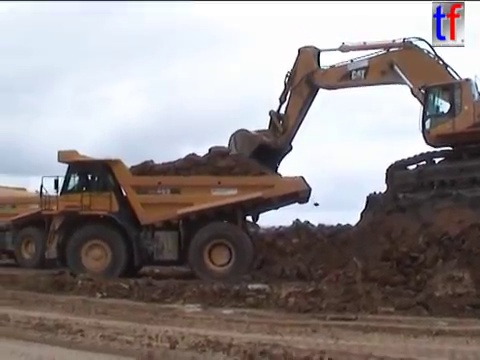excavator: (224, 34, 480, 200)
truck: (37, 147, 315, 286), (1, 182, 96, 272)
